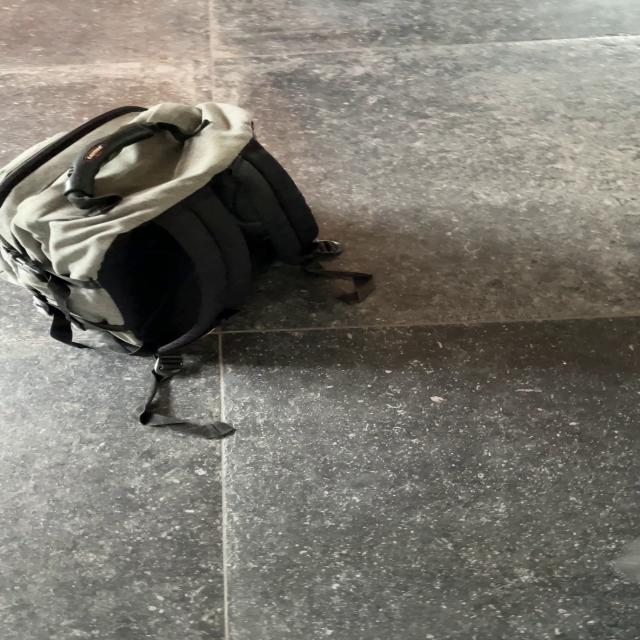backpack: (0, 91, 341, 361)
